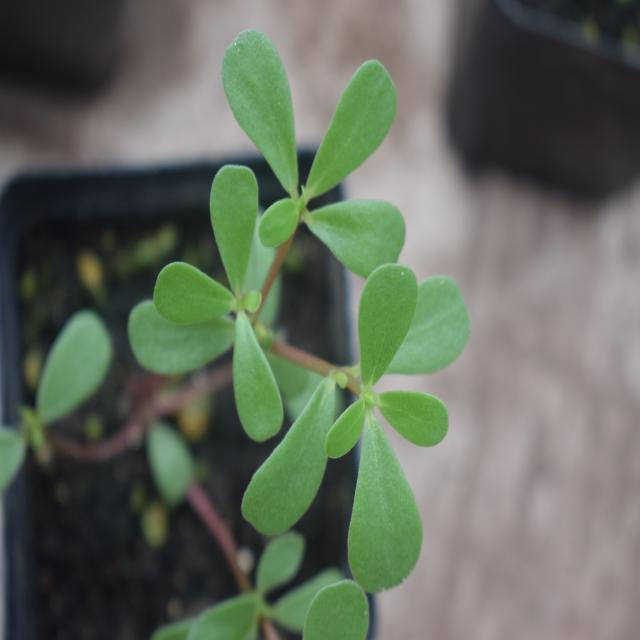purslane: (151, 21, 464, 618)
